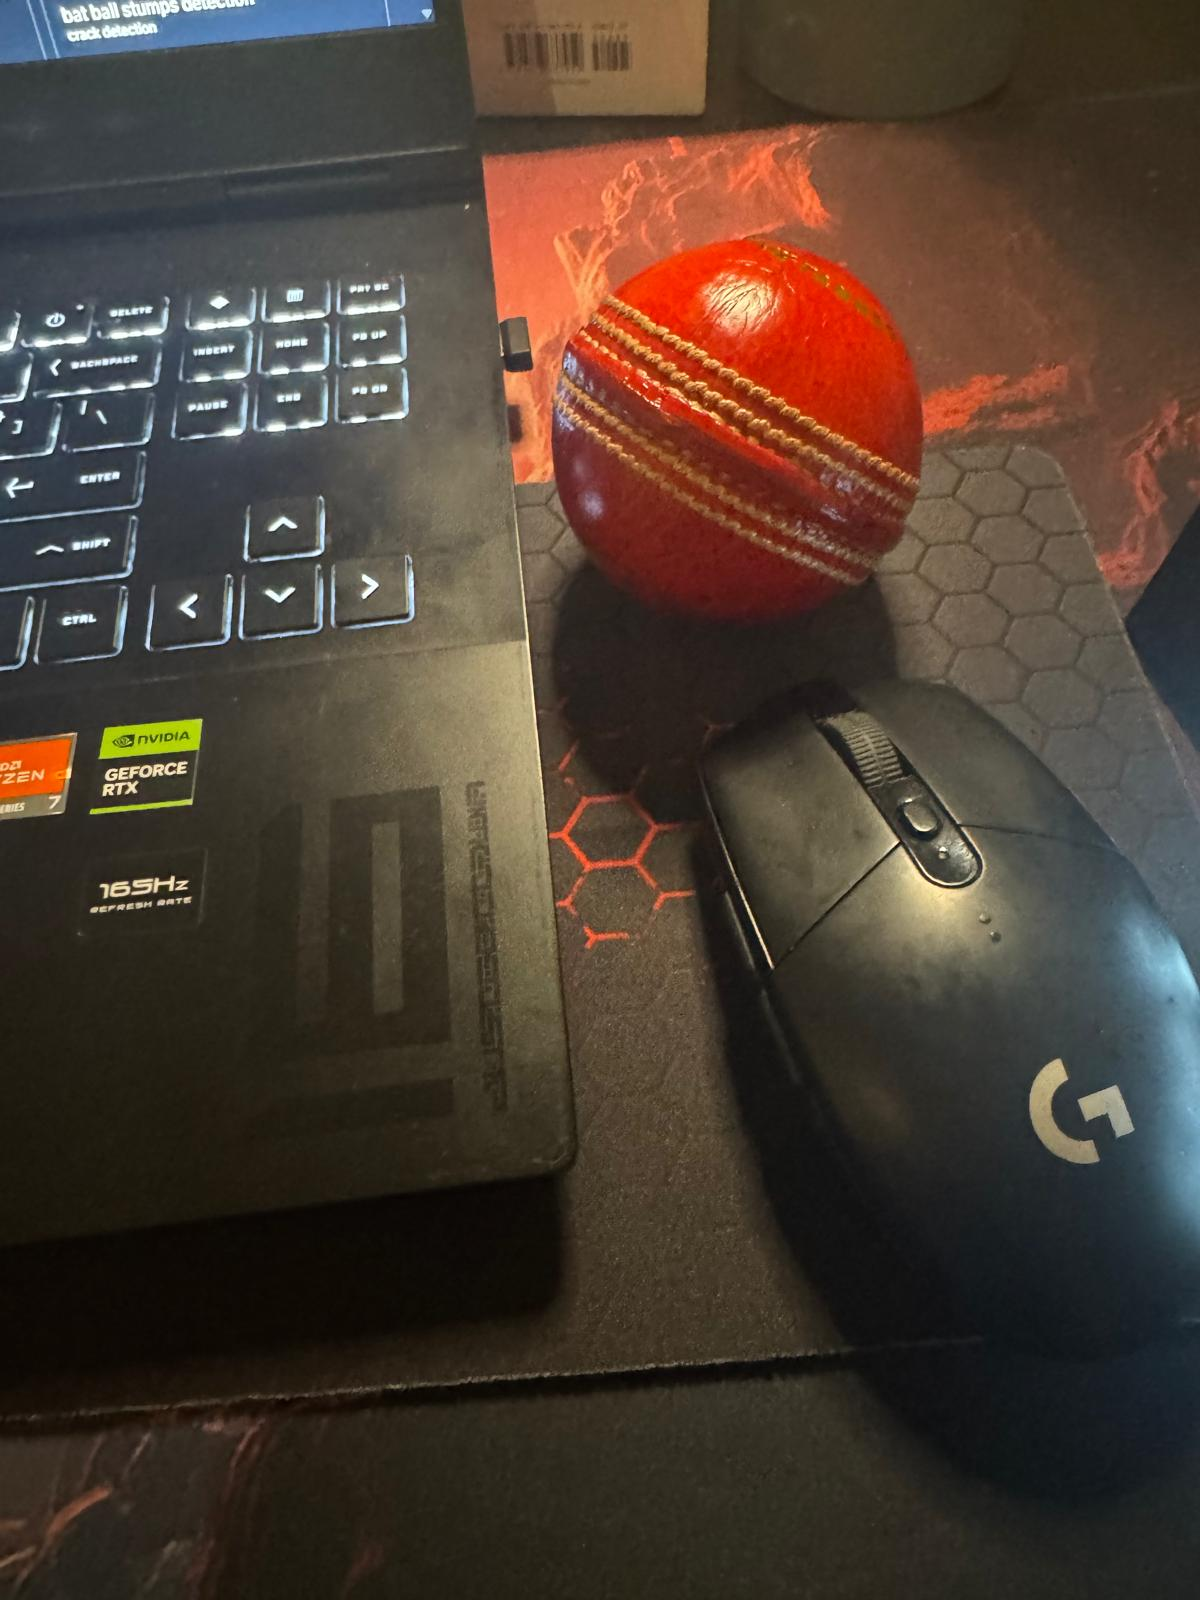Red_Ball: (523, 233, 958, 631)
